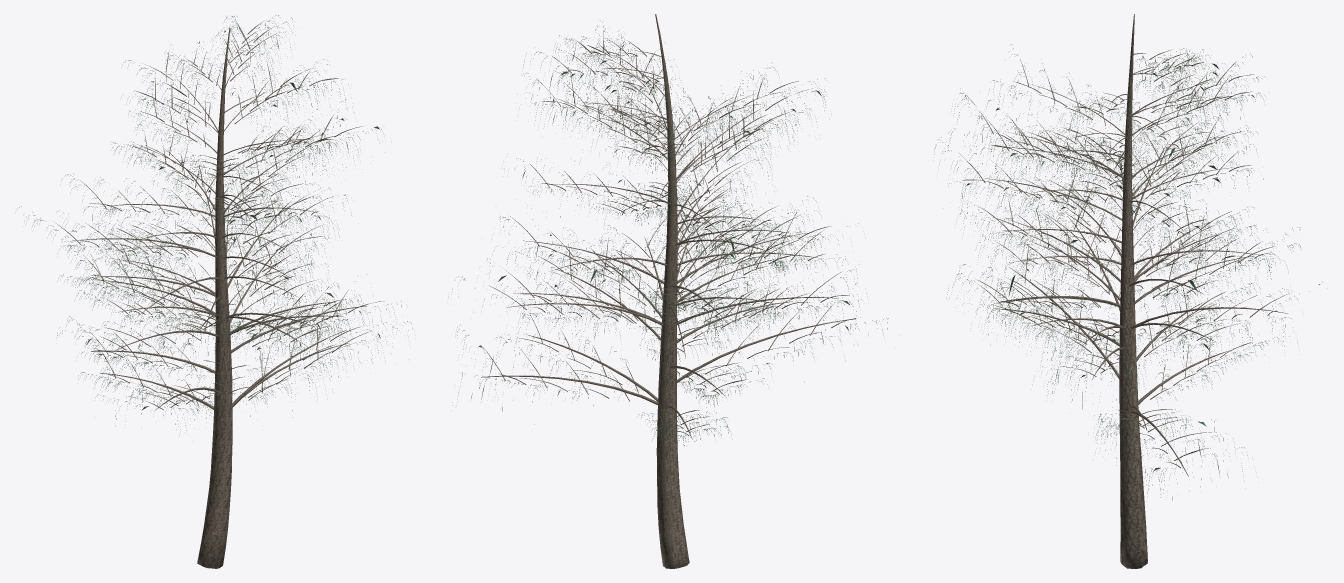
Rendered from casuarina-3.glb.
3 views of the same model, side by side, from view 1: azimuth 30°, elevation 25°; view 2: azimuth 150°, elevation 25°; view 3: azimuth 270°, elevation 25° (orthographic). The views are drawn at different scales.
Parts seen in each view (by area): view 1: bark, branchlets; view 2: bark, branchlets; view 3: bark, branchlets.
Boxes of the visible parts, x1=… form: bark: x1=56, y1=20, x2=384, y2=568; branchlets: x1=19, y1=15, x2=412, y2=434; bark: x1=481, y1=14, x2=860, y2=568; branchlets: x1=448, y1=22, x2=888, y2=446; bark: x1=959, y1=14, x2=1291, y2=568; branchlets: x1=934, y1=44, x2=1322, y2=500.
Size of the model in its own units: 5.8 by 7.83 by 5.08.
2 materials, 2 textured.
